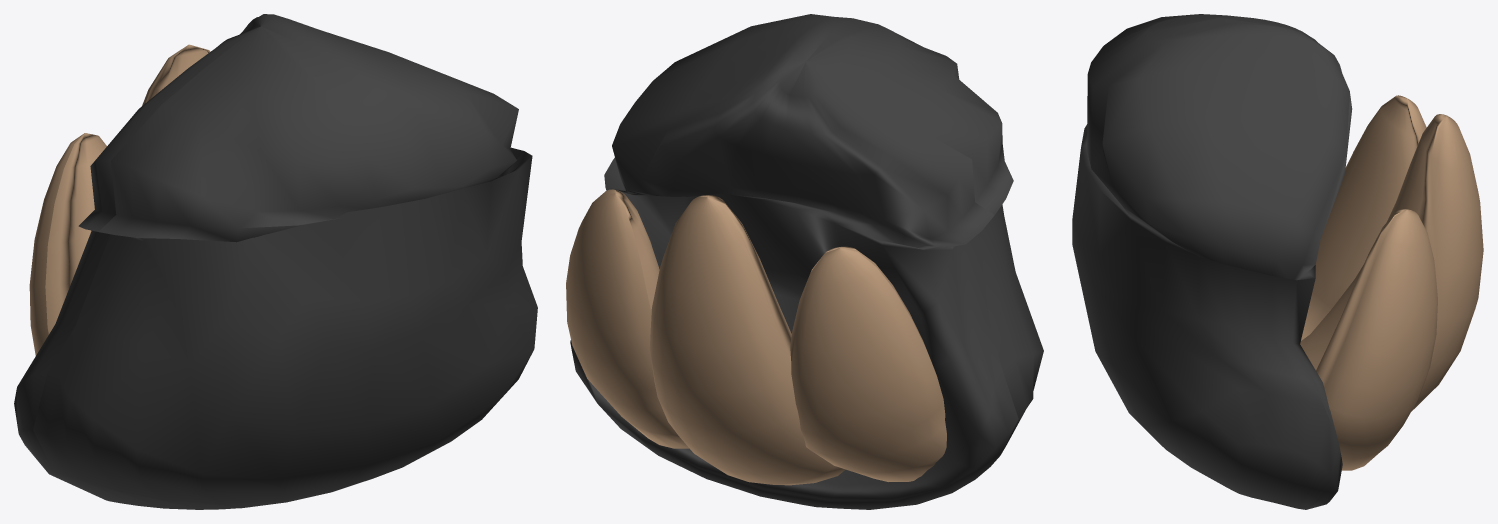
File: hand_sloth.glb
The picture shows the model from 3 angles, left to right: view 1: azimuth 30°, elevation 25°; view 2: azimuth 150°, elevation 25°; view 3: azimuth 270°, elevation 25°; orthographic projection. The views are drawn at different scales.
Visible parts, largest first — view 1: CombinedMesh_MaterialSlots; view 2: CombinedMesh_MaterialSlots; view 3: CombinedMesh_MaterialSlots.
Boxes of the visible parts, x1,y1,x2,y2 form: CombinedMesh_MaterialSlots: (14, 14, 537, 509); CombinedMesh_MaterialSlots: (566, 14, 1043, 509); CombinedMesh_MaterialSlots: (1072, 14, 1483, 509).
Bounding box in the file's own units: 1.48 × 1.43 × 1.2.
